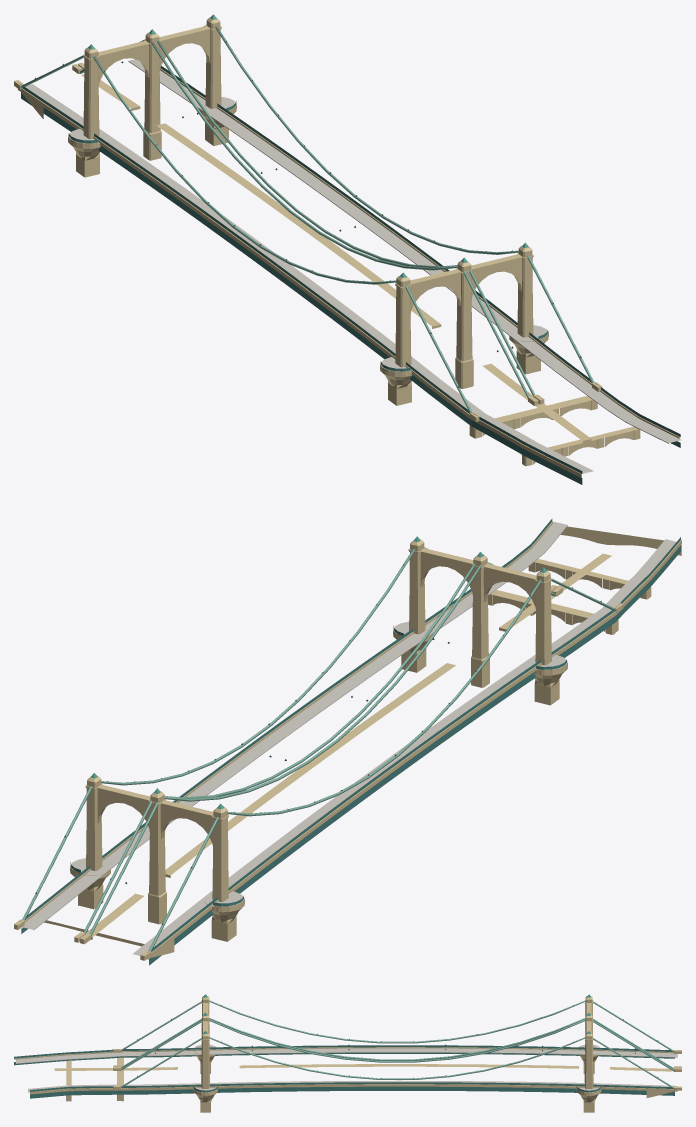
File: msp-hennepin-avenue-bridge.glb
The picture shows the model from 3 angles, top to bottom: view 1: azimuth 30°, elevation 25°; view 2: azimuth 150°, elevation 25°; view 3: azimuth 270°, elevation 25°; orthographic projection. The views are drawn at different scales.
Visible parts, largest first — view 1: Hennepin Avenue Bridge; view 2: Hennepin Avenue Bridge; view 3: Hennepin Avenue Bridge.
Boxes of the visible parts, box(x1,y1,x2,y2) form: Hennepin Avenue Bridge: box(14, 14, 681, 484); Hennepin Avenue Bridge: box(14, 518, 681, 965); Hennepin Avenue Bridge: box(14, 994, 681, 1112).
Size of the model in its own units: 57.7 by 43 by 331.
